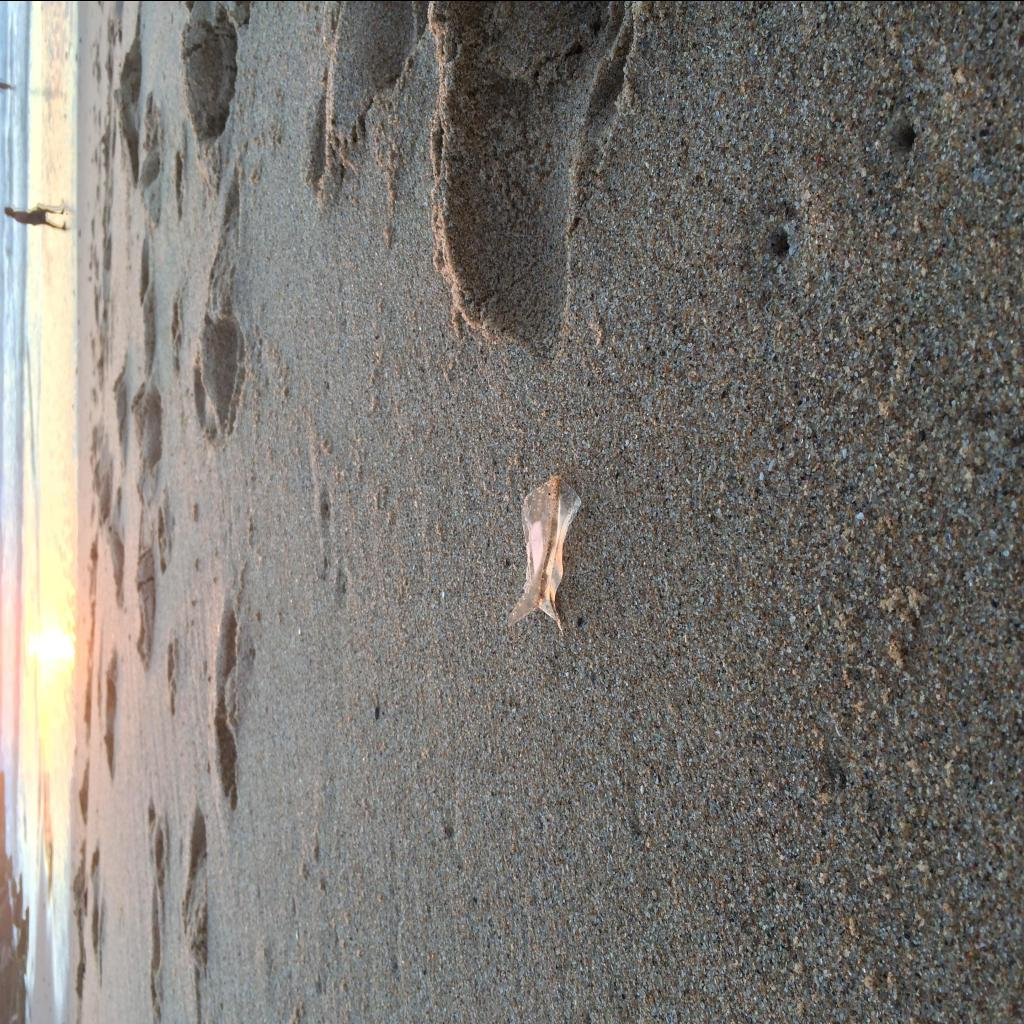Plastic film: (508, 476, 582, 636)
